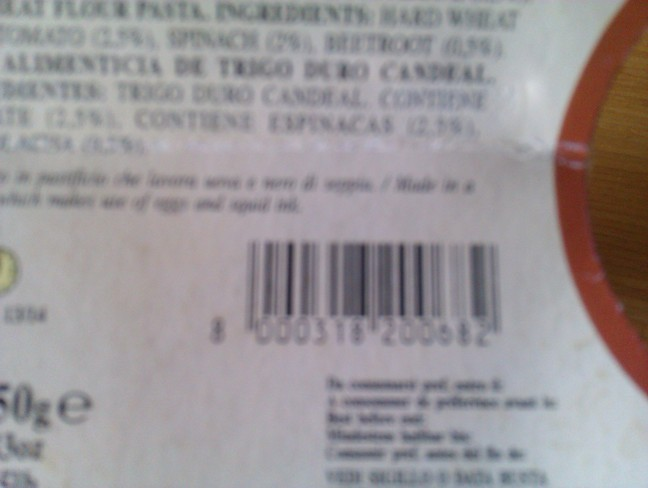barcode: (189, 226, 520, 355)
